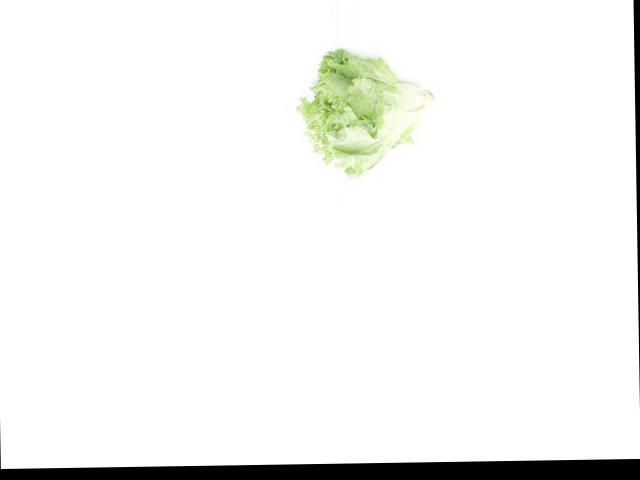lettuce: (293, 51, 449, 185)
